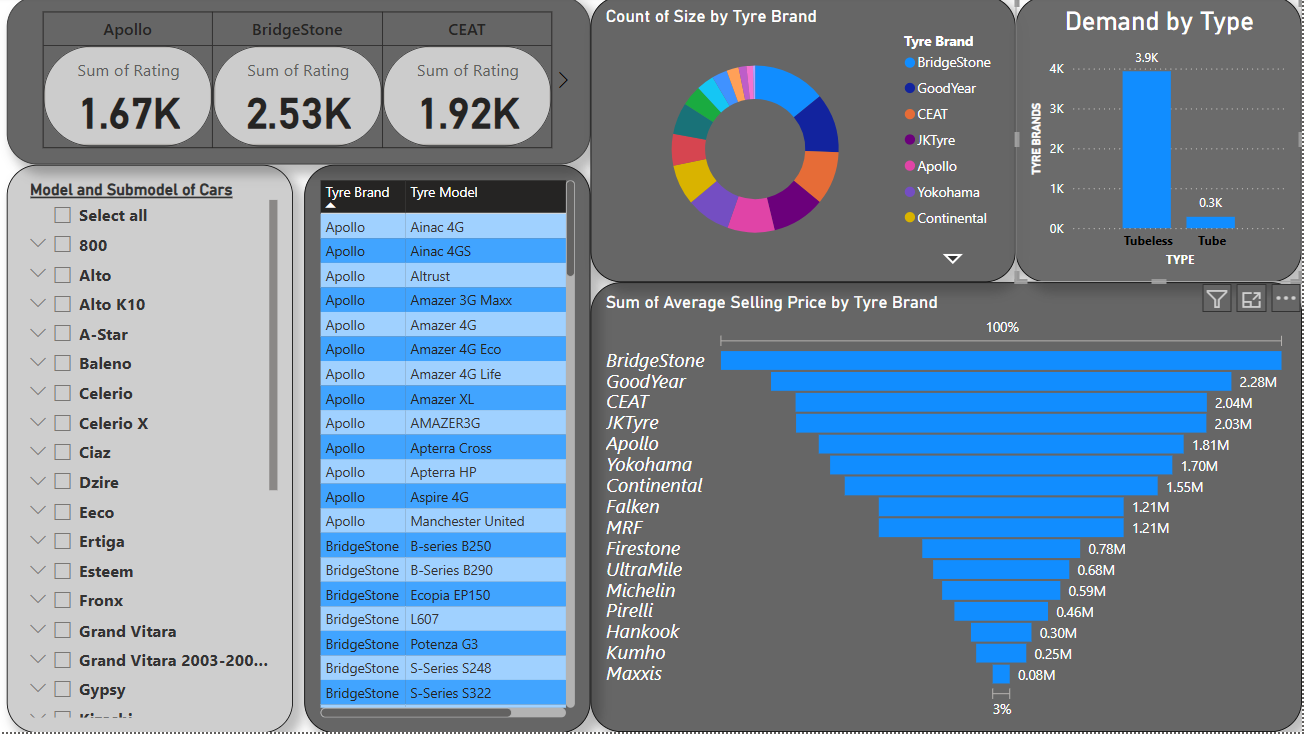

The page's visual inventory and layout, read from the dashboard file:
{"tool":"powerbi","page":{"name":"Page 1","canvas":[1280,720],"ordinal":0},"visuals":[{"type":"clusteredColumnChart","title":"Demand by Type","fields":{"Category":["Car_Tyres_Dataset.Type"],"Y":["CountNonNull(Car_Tyres_Dataset.Tyre Brand)"]},"box":[1000.3,0,279.9,279.9],"z":0},{"type":"funnel","fields":{"Category":["Car_Tyres_Dataset.Tyre Brand"],"Y":["Sum(Car_Tyres_Dataset.Average Selling Price)"]},"box":[584.5,280,695.8,440.2],"z":1000},{"type":"slicer","fields":{"Values":["Car_Tyres_Dataset.Model","Car_Tyres_Dataset.Submodel"]},"box":[13.7,164.7,279.9,555.7],"z":2000},{"type":"tableEx","fields":{"Values":["Car_Tyres_Dataset.Tyre Brand","Car_Tyres_Dataset.Tyre Model"]},"box":[304.6,164.7,279.9,555.7],"z":3000},{"type":"cardVisual","fields":{"Data":["Sum(Car_Tyres_Dataset.Rating)"],"Rows":["Car_Tyres_Dataset.Tyre Brand"]},"box":[13.7,0,570.8,164.7],"z":4000},{"type":"donutChart","fields":{"Y":["CountNonNull(Car_Tyres_Dataset.Size)"],"Category":["Car_Tyres_Dataset.Tyre Brand"]},"box":[584.6,0,415.8,279.9],"z":4001}]}

Visuals, with their boxes in screenshot pixels (x1, y1, x2, y2), scaled from the page's 1280x720 canvas onto the 1308x735 screenshot:
"Demand by Type" clusteredColumnChart: Rect(1022, 0, 1307, 286)
funnel - Car_Tyres_Dataset.Tyre Brand x Sum(Car_Tyres_Dataset.Average Selling Price): Rect(597, 286, 1307, 734)
slicer - Car_Tyres_Dataset.Model x Car_Tyres_Dataset.Submodel: Rect(14, 168, 300, 734)
tableEx - Car_Tyres_Dataset.Tyre Brand x Car_Tyres_Dataset.Tyre Model: Rect(311, 168, 597, 734)
cardVisual - Sum(Car_Tyres_Dataset.Rating) x Car_Tyres_Dataset.Tyre Brand: Rect(14, 0, 597, 168)
donutChart - CountNonNull(Car_Tyres_Dataset.Size) x Car_Tyres_Dataset.Tyre Brand: Rect(597, 0, 1022, 286)
